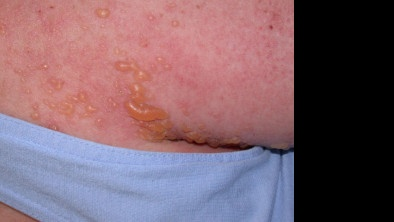SJS-TEN: (12, 0, 311, 167)
